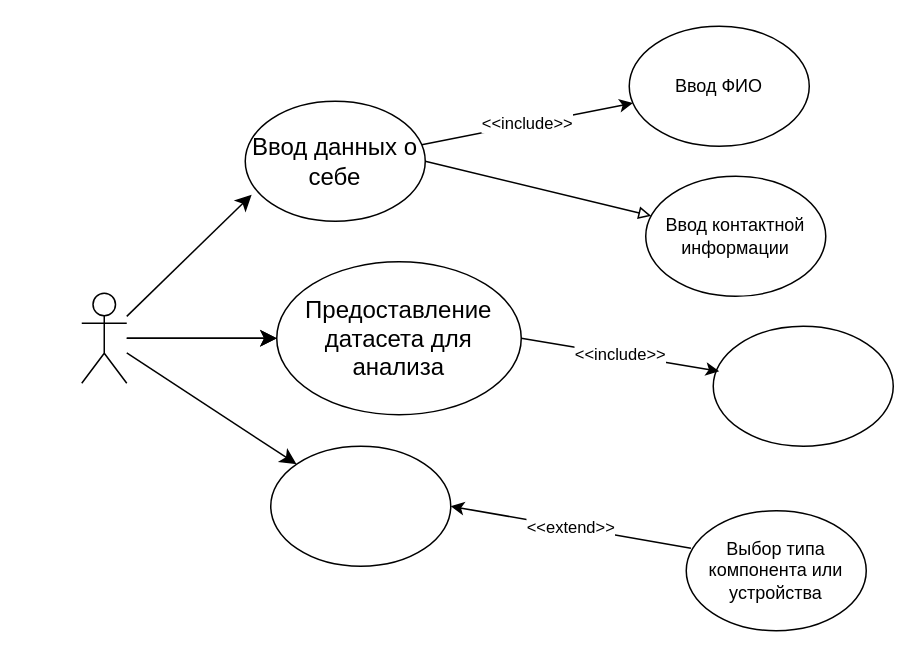
Image size: 920x657. Some labels were removed from this diagram. The shapes that lost their labels are listed below. From the top down, each one's centre as x and y in pixels, then its label:
(x=103, y=337): Пользователь
(x=802, y=385): Ввод параметров
(x=360, y=505): Создание модели
